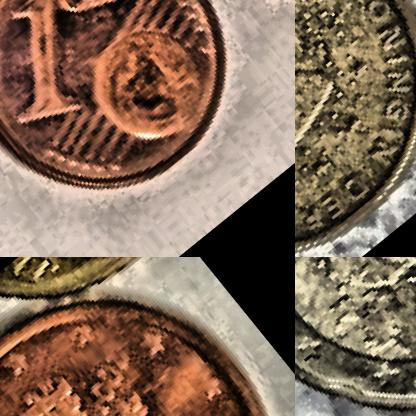coin: (0, 0, 280, 241), (0, 257, 294, 415), (295, 0, 415, 256), (295, 257, 415, 415)
